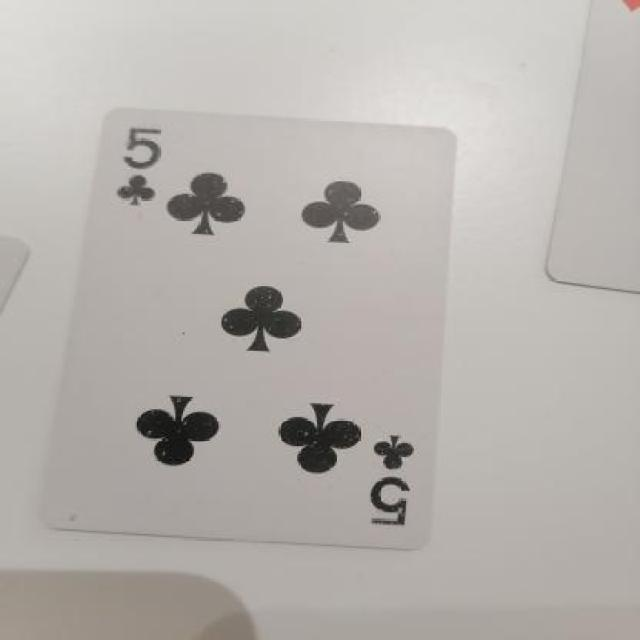5C: (92, 126, 193, 232), (364, 424, 438, 534)
